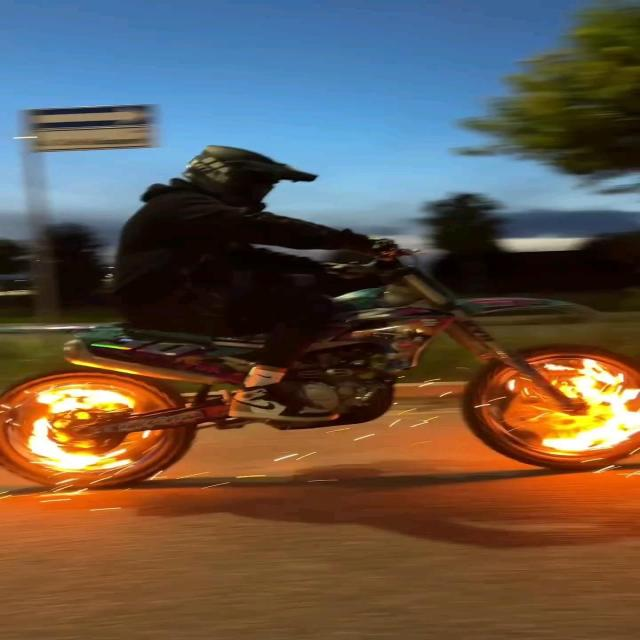fire: (23, 416, 133, 472), (529, 400, 640, 451), (551, 358, 640, 399), (36, 382, 136, 414)
